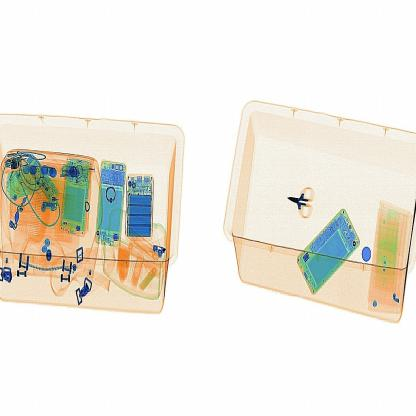gun: (283, 182, 323, 228)
